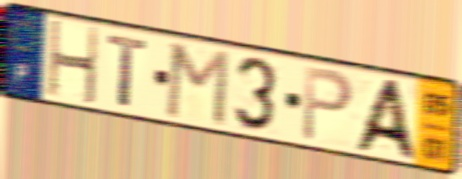3: (230, 55, 283, 135)
A: (349, 77, 421, 164)
H: (46, 18, 101, 108)
M: (162, 40, 232, 130)
P: (300, 63, 356, 145)
T: (105, 32, 151, 110)
